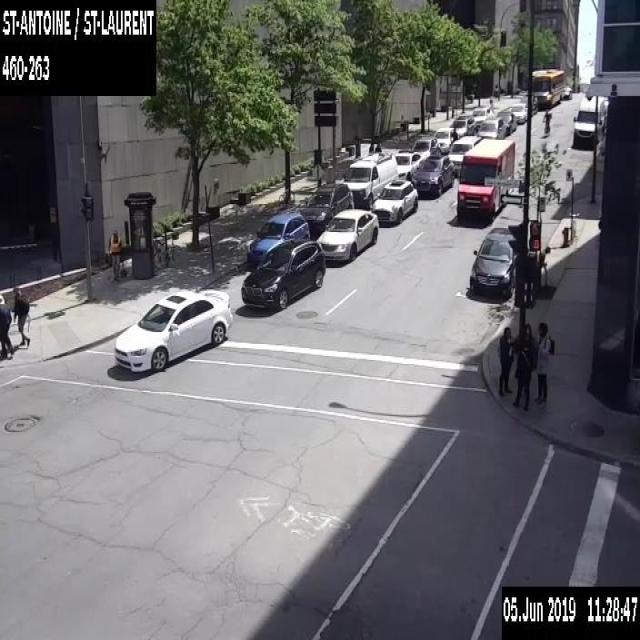bus: (530, 68, 564, 106)
cyclist: (541, 108, 551, 137)
pedestrian: (533, 320, 554, 408), (511, 338, 532, 410), (497, 325, 514, 395), (12, 286, 30, 348), (0, 293, 15, 360), (518, 322, 538, 369), (107, 228, 123, 281), (536, 244, 551, 294), (449, 126, 458, 142), (493, 83, 499, 104), (374, 140, 381, 152), (489, 94, 493, 108), (368, 142, 372, 152)
vehicle: (114, 287, 233, 373), (240, 238, 325, 308), (456, 138, 514, 220), (468, 226, 516, 298), (315, 208, 378, 261), (246, 212, 309, 264), (343, 151, 397, 208), (300, 182, 351, 230), (371, 178, 417, 223), (411, 153, 454, 195), (572, 92, 604, 148), (447, 134, 482, 175), (394, 149, 426, 180), (449, 113, 476, 138), (476, 116, 506, 138), (432, 126, 454, 153), (411, 136, 440, 156), (472, 105, 494, 129), (496, 110, 516, 134), (520, 94, 538, 115), (510, 102, 527, 122), (603, 100, 609, 132), (562, 85, 572, 98)
